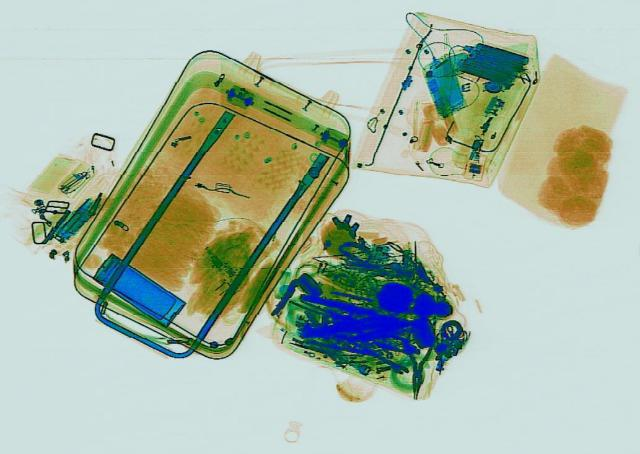Pliers: (398, 326, 436, 397)
Wrench: (344, 336, 412, 375)
